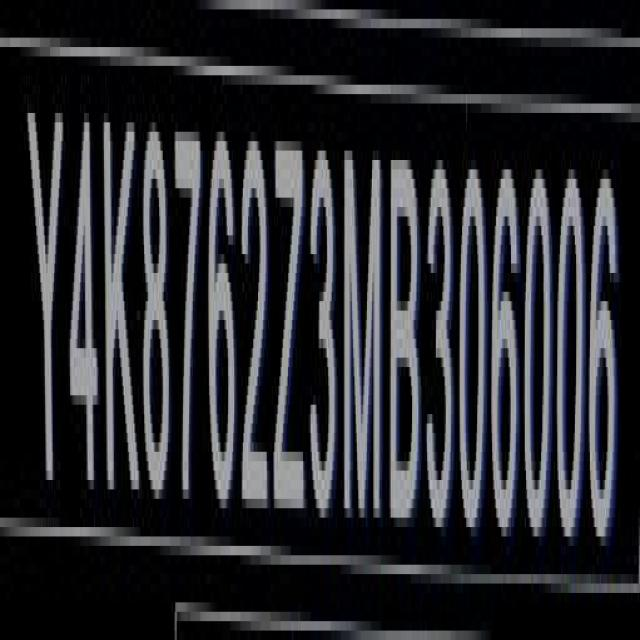0: (555, 165, 586, 542), (460, 162, 490, 540), (523, 168, 552, 543)
2: (241, 137, 268, 526)
3: (306, 129, 338, 512), (427, 158, 455, 538)
4: (67, 101, 102, 508)
6: (205, 132, 238, 502), (492, 165, 523, 542), (592, 168, 622, 549)
7: (177, 123, 206, 518)
8: (142, 120, 174, 512)
B: (391, 151, 424, 533)
K: (105, 110, 138, 511)
M: (343, 132, 386, 538)
Y: (27, 94, 64, 485)
Z: (274, 132, 306, 526)
